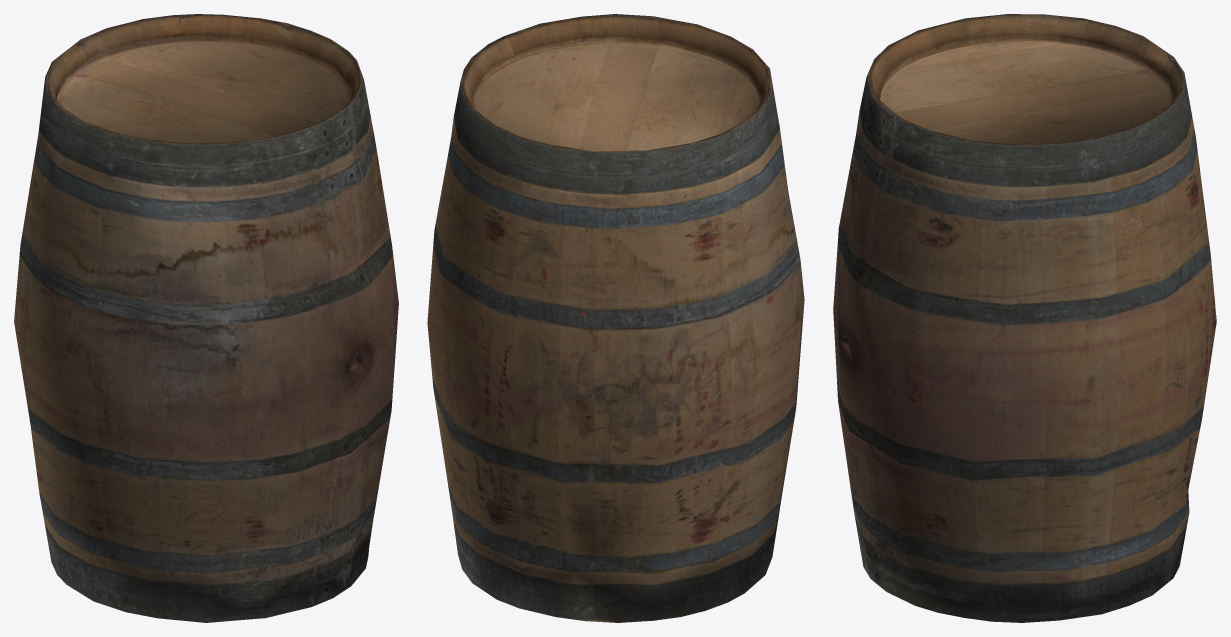
File: wooden_barrel_tl3ifacfa_low.glb
The picture shows the model from 3 angles, left to right: view 1: azimuth 30°, elevation 25°; view 2: azimuth 150°, elevation 25°; view 3: azimuth 270°, elevation 25°; orthographic projection.
Visible parts, largest first — view 1: tl3ifacfa_LOD0_TIER3_000; view 2: tl3ifacfa_LOD0_TIER3_000; view 3: tl3ifacfa_LOD0_TIER3_000.
Boxes of the visible parts, x1,y1,x2,y2 form: tl3ifacfa_LOD0_TIER3_000: [14, 14, 398, 622]; tl3ifacfa_LOD0_TIER3_000: [427, 14, 804, 622]; tl3ifacfa_LOD0_TIER3_000: [833, 14, 1216, 622].
Bounding box in the file's own units: 0.6781 × 0.9498 × 0.689.
Materials: 1 (1 with a texture image).
